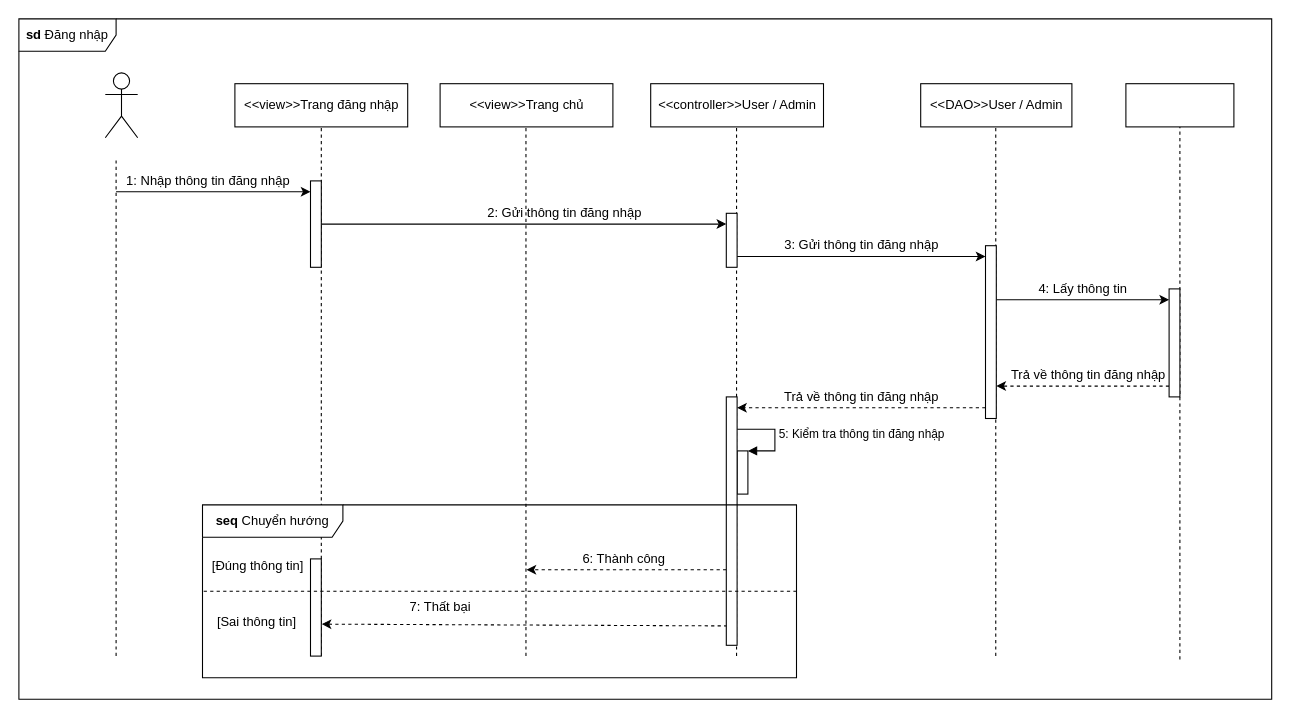
Some shapes in this 1291 by 718 pixel diagram are drawn without their labels. Here are the shapes that lost their labels. From the top down, the centre of each, then its label:
At point (121, 105): "Người dùng / Quản lý".
At point (1179, 105): "Database".
